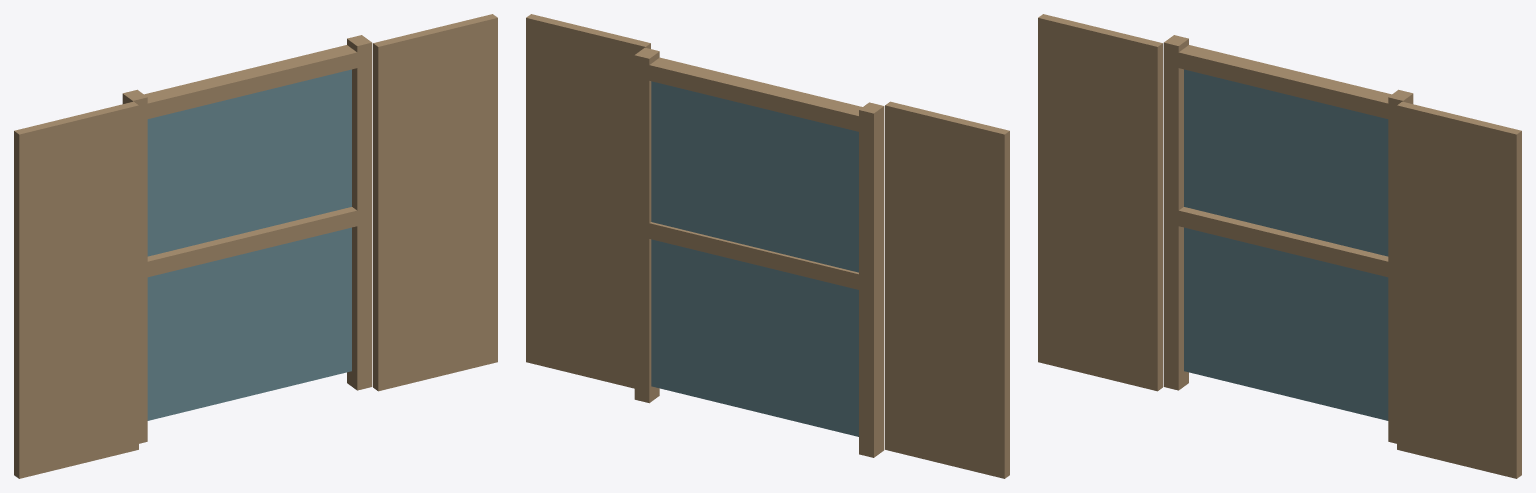
Rendered from mdl_architecture_window_colonial_001.glb.
3 views of the same model, side by side, from view 1: azimuth 30°, elevation 25°; view 2: azimuth 150°, elevation 25°; view 3: azimuth 330°, elevation 25° (orthographic).
Parts seen in each view (by area): view 1: m_madera, m_vidrio_petroleo; view 2: m_madera, m_vidrio_petroleo; view 3: m_madera, m_vidrio_petroleo.
Boxes of the visible parts, left/top/right/bottom form: m_madera: left=14, top=14, right=497, bottom=478; m_vidrio_petroleo: left=147, top=69, right=351, bottom=420; m_madera: left=526, top=14, right=1009, bottom=478; m_vidrio_petroleo: left=651, top=81, right=858, bottom=436; m_madera: left=1038, top=14, right=1521, bottom=478; m_vidrio_petroleo: left=1184, top=69, right=1388, bottom=420.
Bounding box in the file's own units: 1.6 × 1.1 × 0.095.
